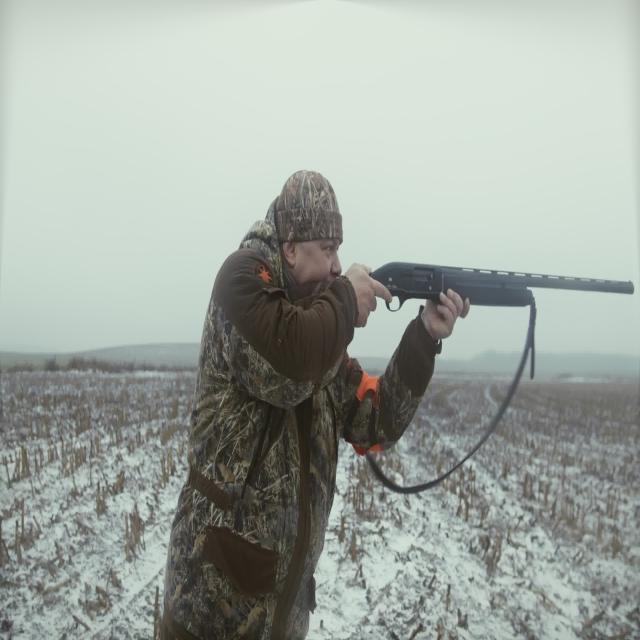poacher: (238, 200, 388, 630)
weapon: (323, 204, 452, 316)
